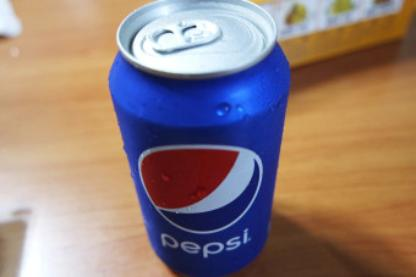Can: (106, 1, 292, 277)
